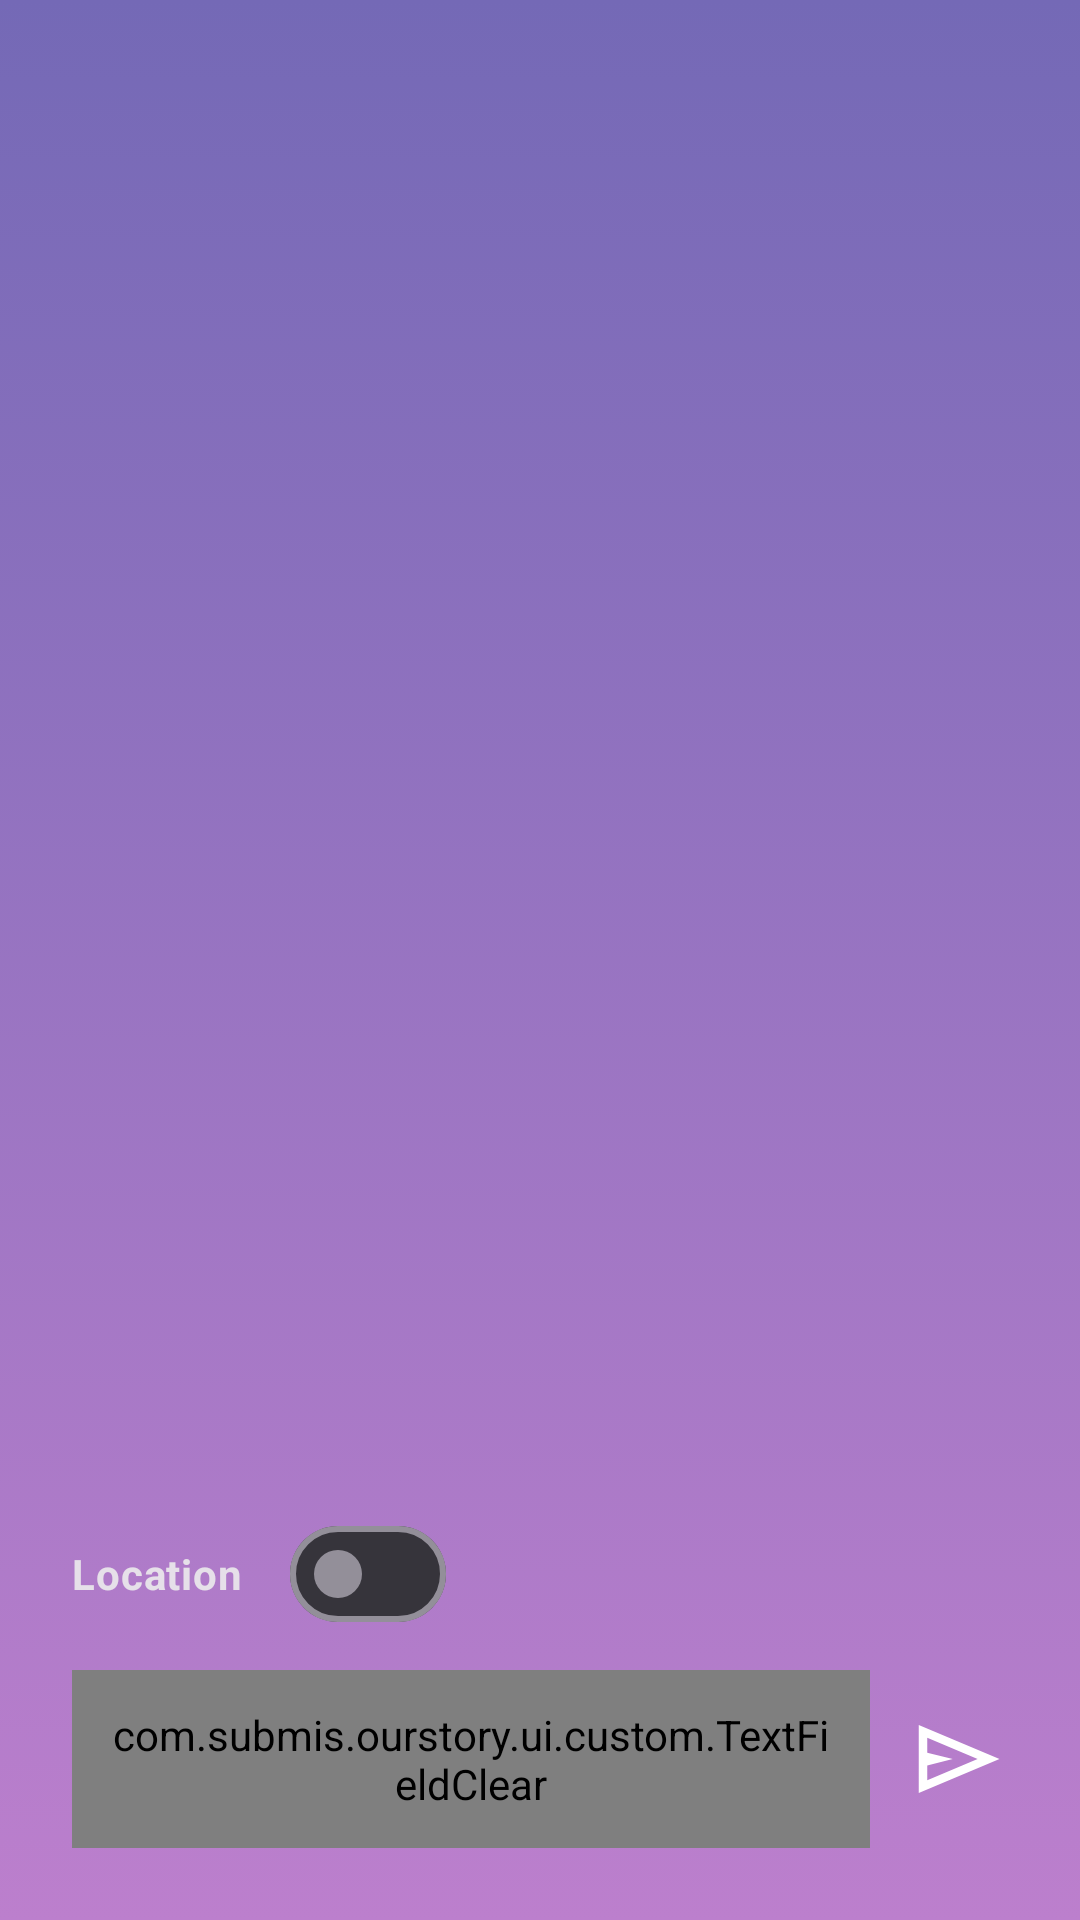

Icons on this 1080px×1920px Android screen, each with the point to tap as (x=x, y=y):
Upload Your Story: (x=958, y=1759)
